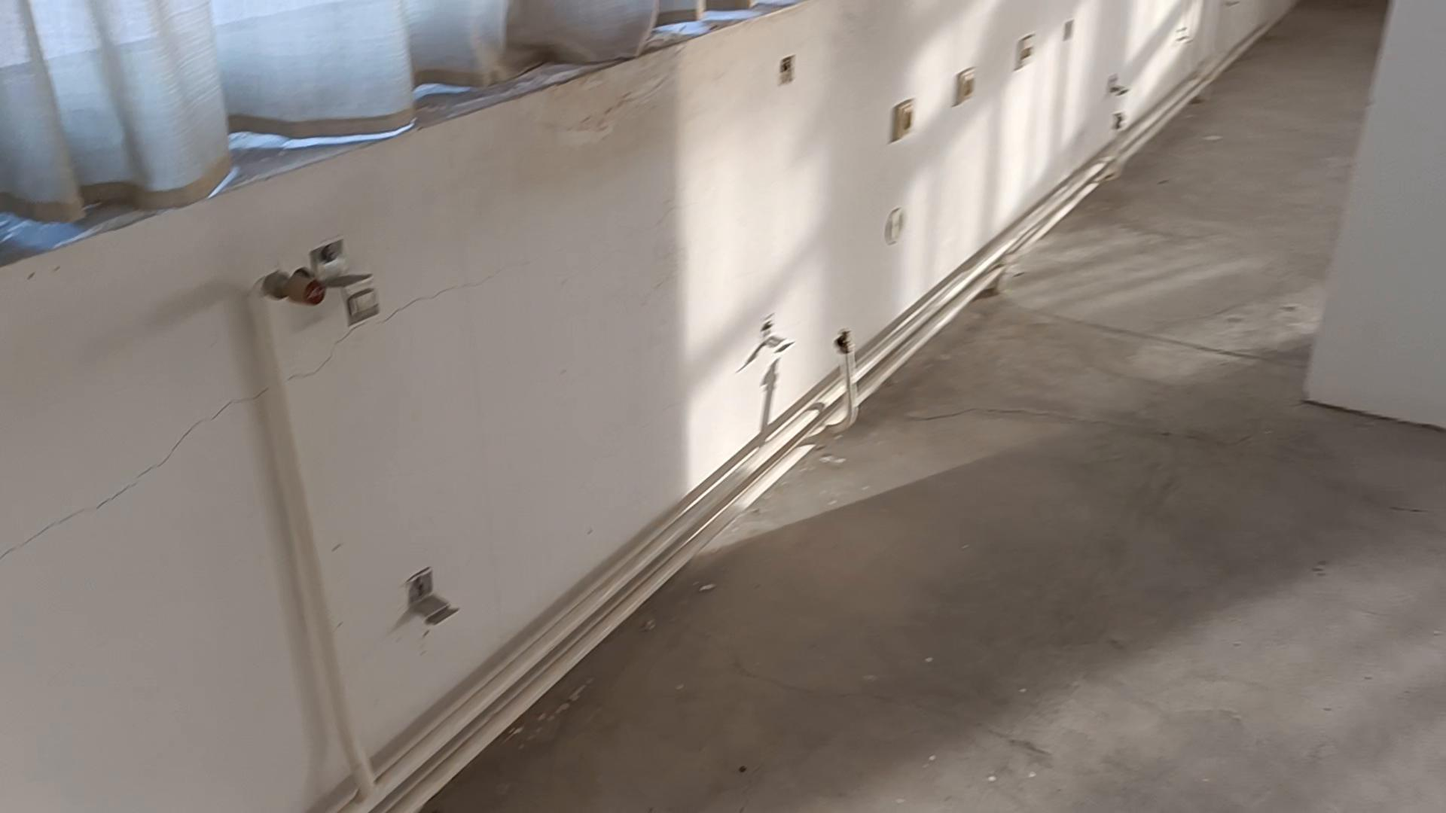floor: (427, 0, 1445, 812)
wall: (8, 1, 1289, 812), (1304, 0, 1445, 429)
